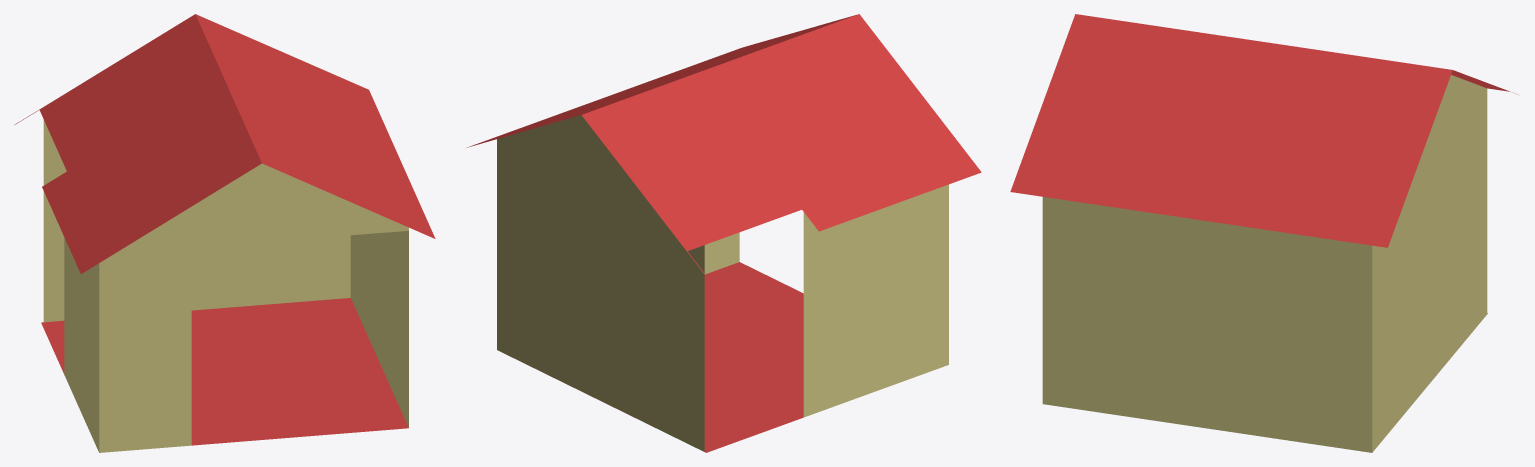
3 renders of one model, left to right at view 1: azimuth 30°, elevation 25°; view 2: azimuth 150°, elevation 25°; view 3: azimuth 270°, elevation 25°, orthographic. The views are drawn at different scales.
Bounding box in the file's own units: 20.06 × 20.03 × 13.79.
